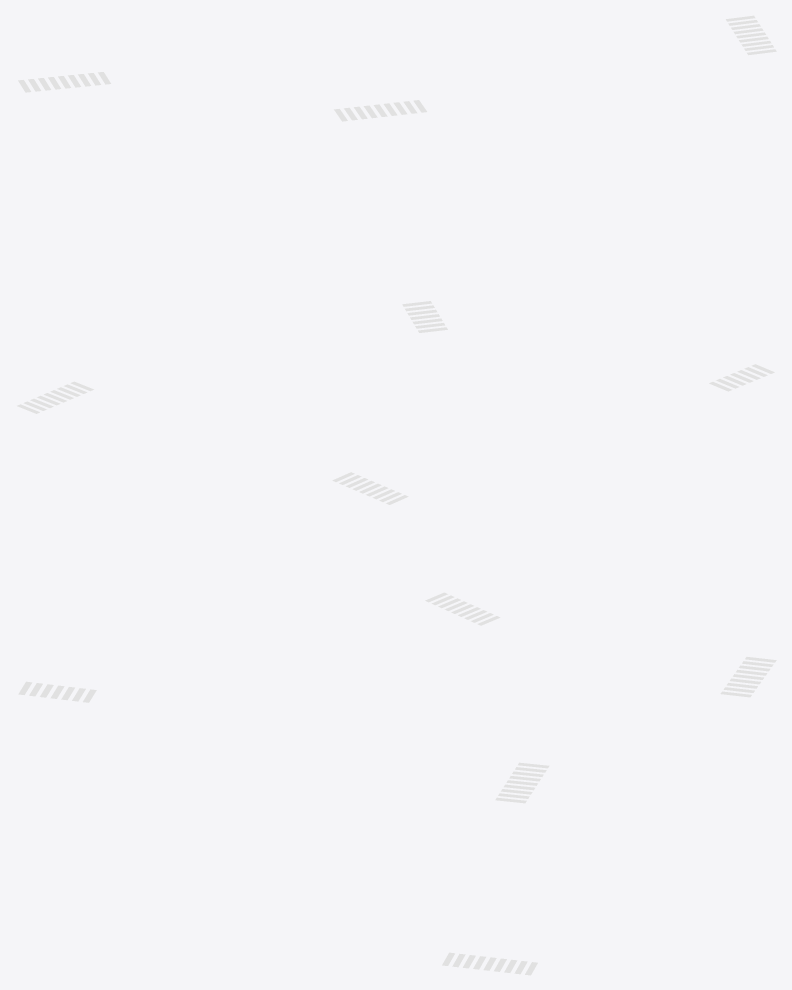
File: kd_stage_136599_1_2_bounded.glb
3 renders of one model, top to bottom at view 1: azimuth 30°, elevation 25°; view 2: azimuth 150°, elevation 25°; view 3: azimuth 270°, elevation 25°, orthographic. The views are drawn at different scales.
Visible parts, largest first — view 1: kd_stage_136599_1_2_bounded; view 2: kd_stage_136599_1_2_bounded; view 3: kd_stage_136599_1_2_bounded.
Part boxes in pixels (left/top/right/bottom): kd_stage_136599_1_2_bounded: left=18, top=15, right=776, bottom=332; kd_stage_136599_1_2_bounded: left=17, top=364, right=774, bottom=625; kd_stage_136599_1_2_bounded: left=18, top=657, right=776, bottom=975.
Size of the model in its own units: 38.4 by 0 by 38.64.
Materials: 1 (1 with a texture image).
